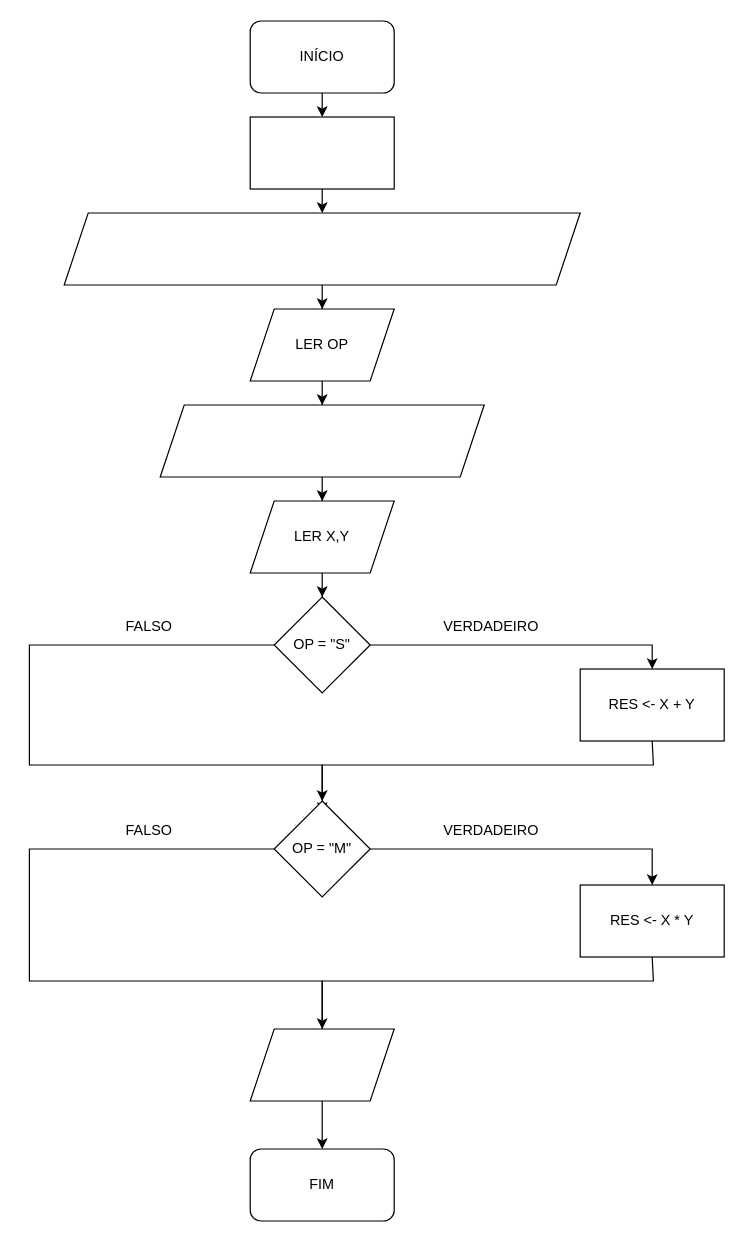
The diagram is 745 pixels wide and 1242 high, and some of its shapes have lost their labels. Each missing label, with the centre of its shape:
ESCREVER "ESCREVA OS 2 NÚMEROS": [321,440]
ESCREVER "TIPO DE OPERAÇÃO : S - SOMAR OU M - MULTIPLICAR": [321,248]
ESCREVER RES: [321,1064]
RES = 0: [321,152]
